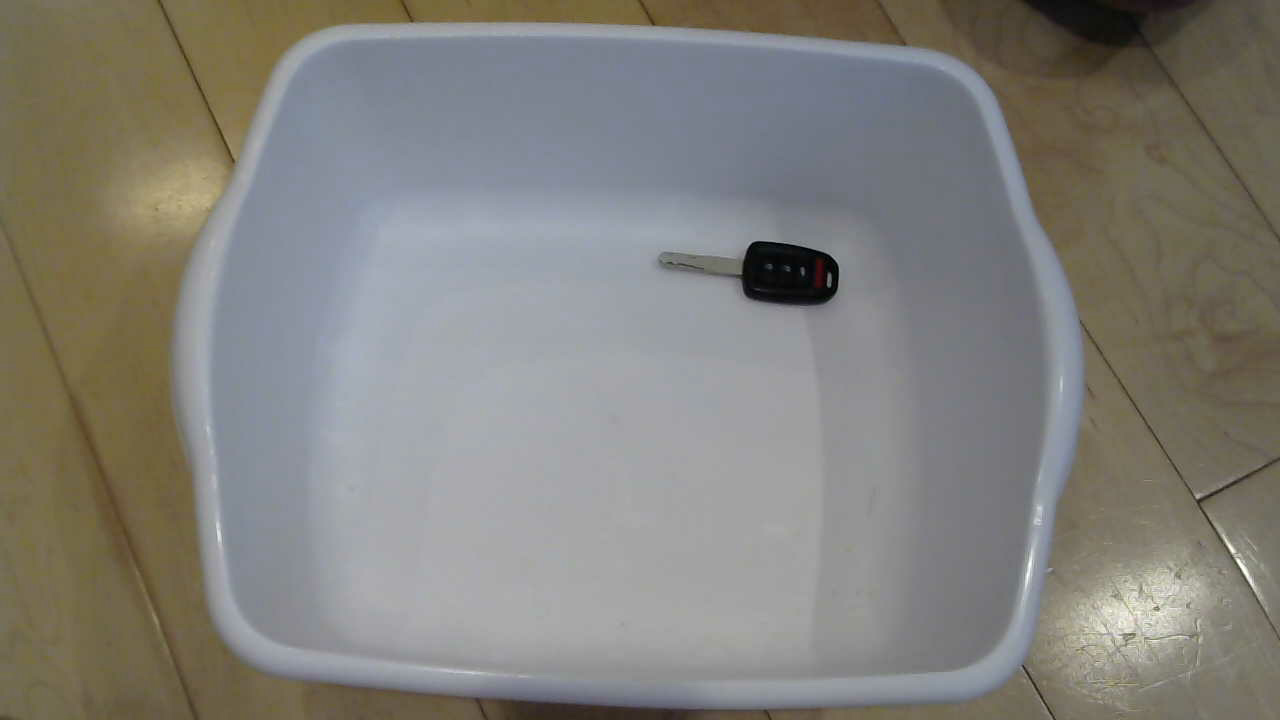key: (632, 222, 858, 318)
